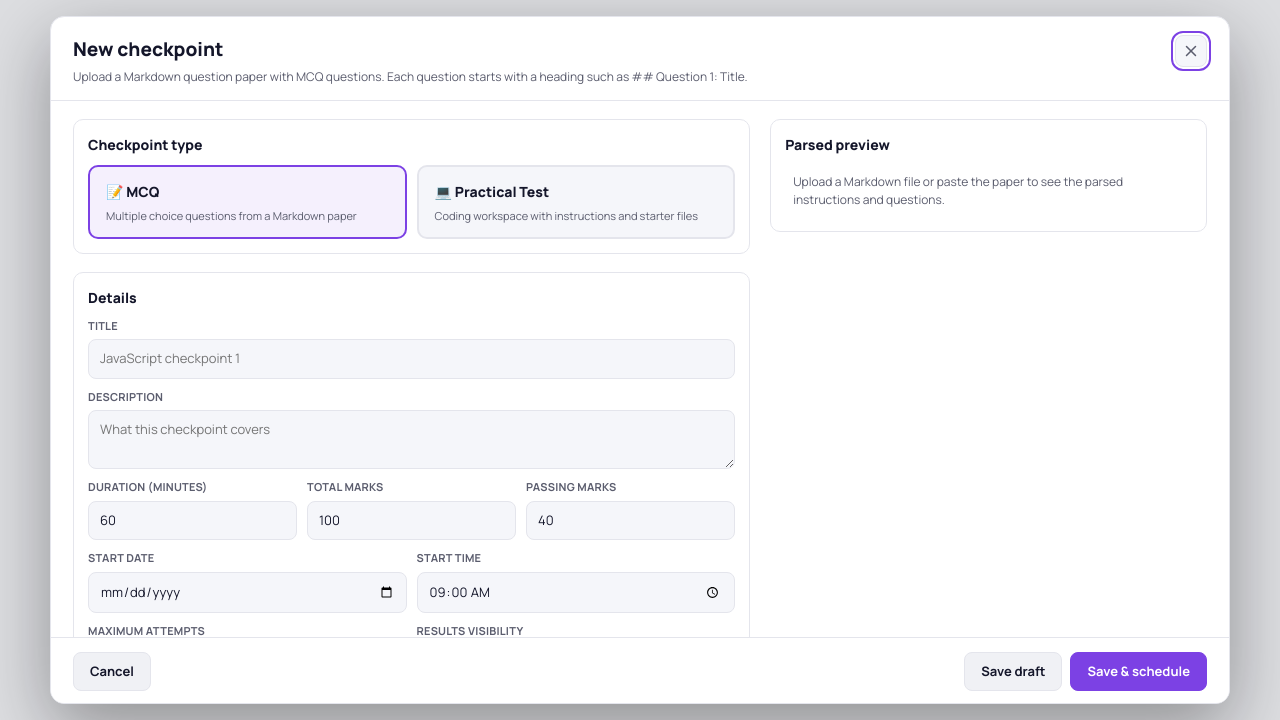
Test: CheckpointFormDialog › creates a starter file from the New file row
Click the button "Practical Test" at (492, 191), box [417,164,735,239]
(page scrolled)
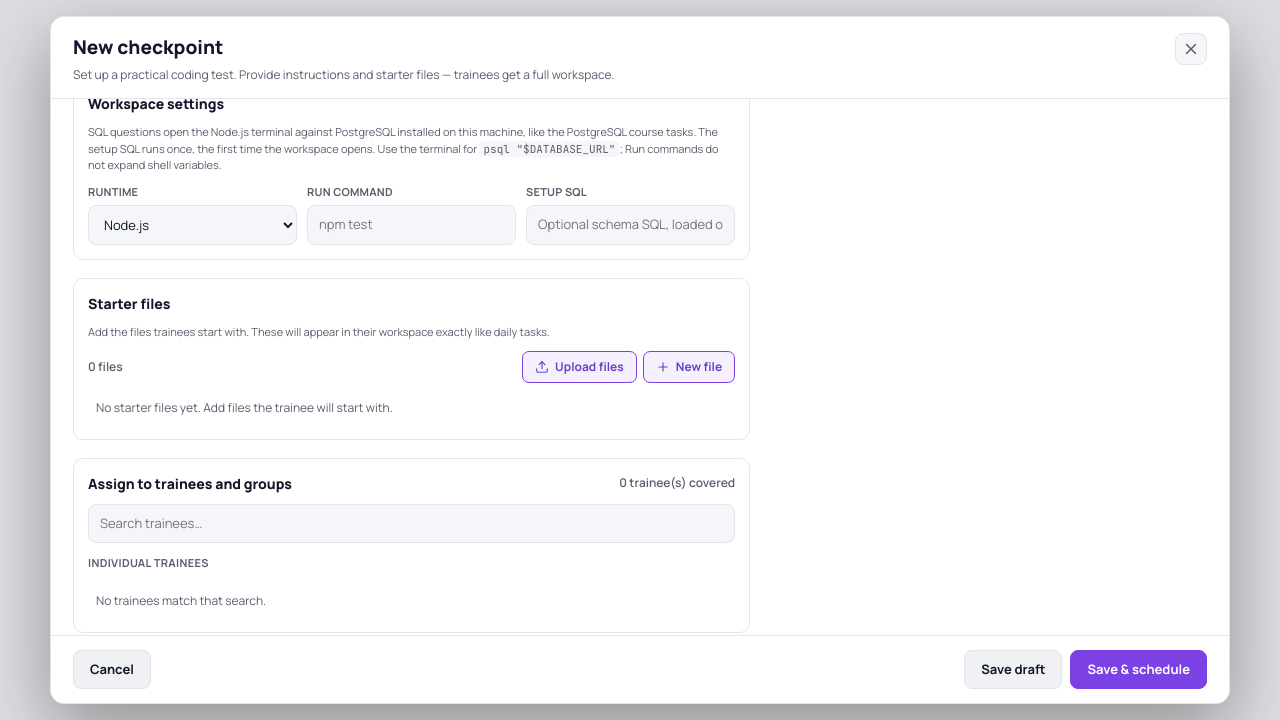
Click the button "New file" at (689, 367), box [643,351,735,383]
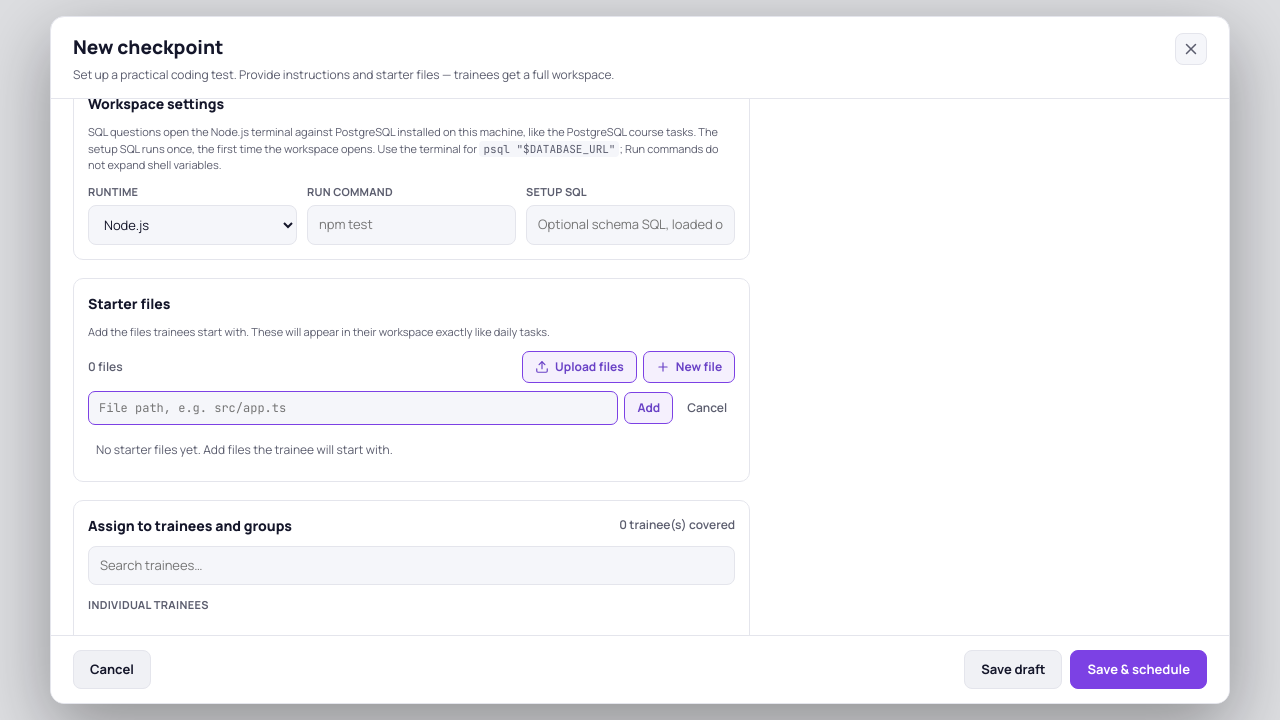
Type "src/app.ts" into the field named "New file path" at (353, 408), box [88,391,618,425]
Then press Enter
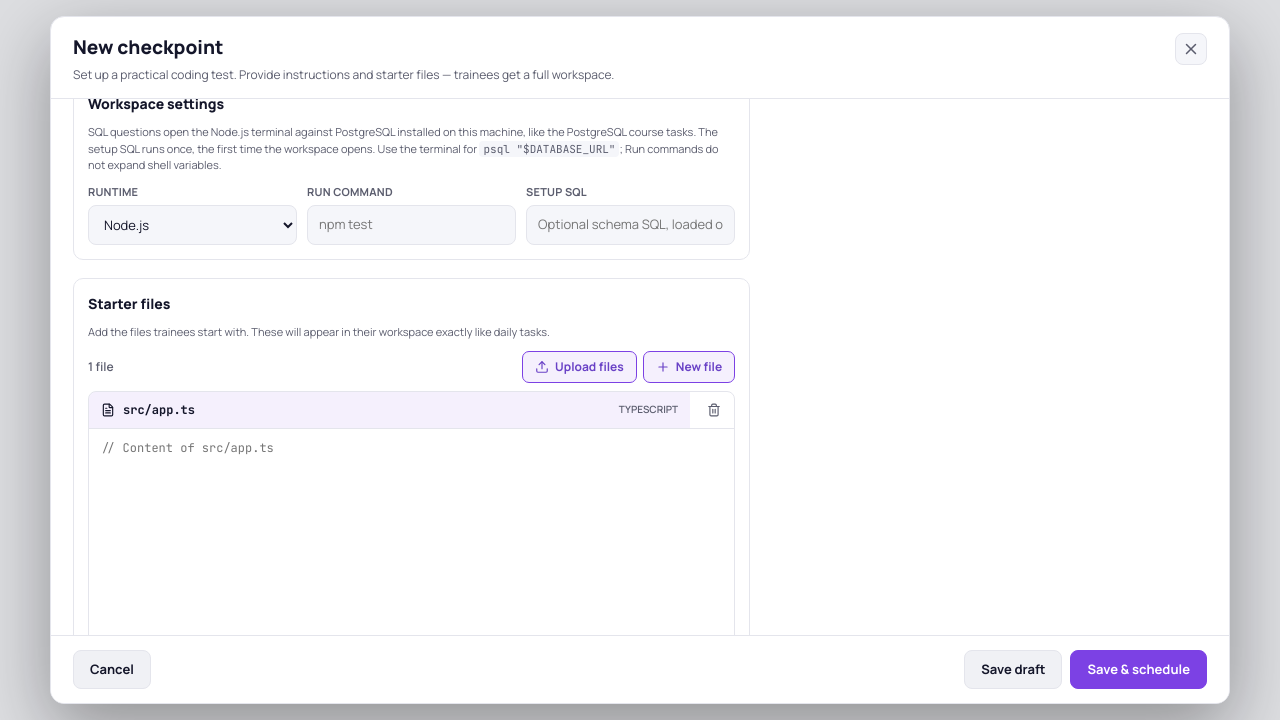
Result: the text "src/app.ts" is shown at [123,401,195,419]
Result: the text box with placeholder "// Content of src/app.ts" is shown at [89,428,734,634]
Result: the text "1 file" is shown at [88,358,114,376]
